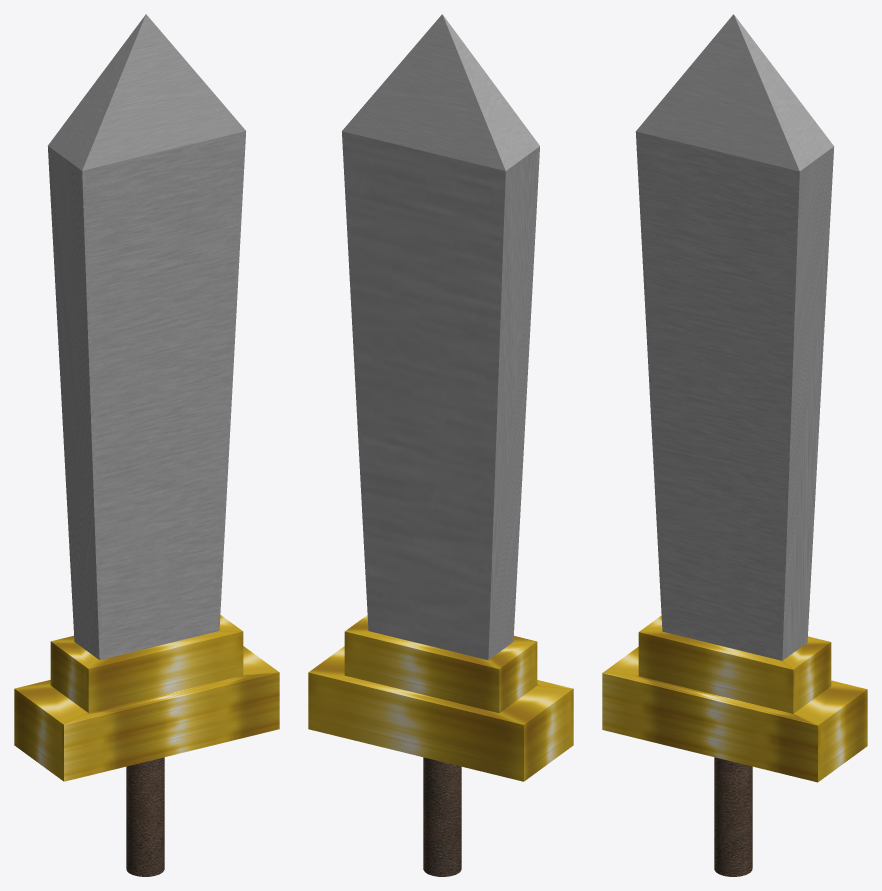
Rendered from sword.fbx.
3 views of the same model, side by side, from view 1: azimuth 30°, elevation 25°; view 2: azimuth 150°, elevation 25°; view 3: azimuth 330°, elevation 25° (orthographic).
Parts seen in each view (by area): view 1: pCube1, pCylinder1; view 2: pCube1, pCylinder1; view 3: pCube1, pCylinder1.
Part boxes in pixels (x1,y1,x2,y2): pCube1: [14, 14, 279, 781]; pCylinder1: [126, 757, 164, 876]; pCube1: [308, 14, 573, 781]; pCylinder1: [423, 757, 461, 876]; pCube1: [602, 14, 867, 782]; pCylinder1: [714, 757, 752, 876].
Bounding box in the file's own units: 1.18 × 4.48 × 0.4717.
